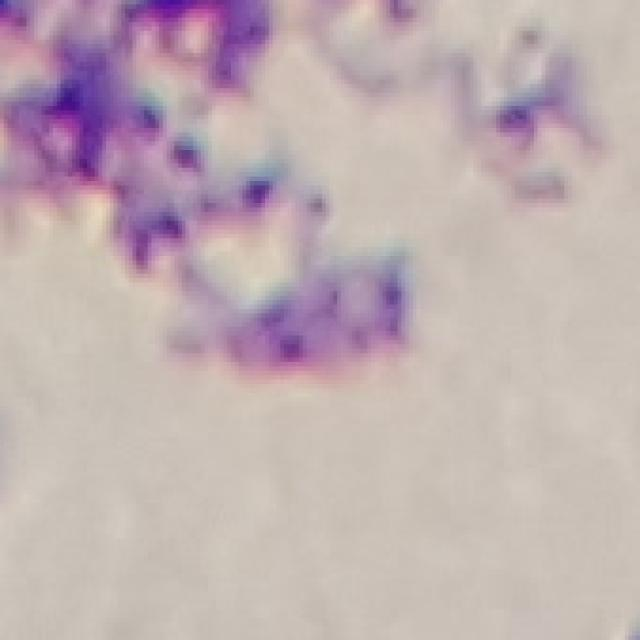non-sperm: (0, 0, 415, 382)
